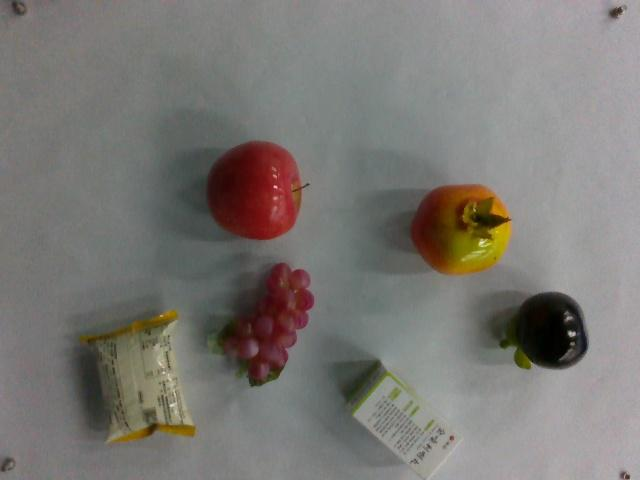apple: (206, 140, 310, 241)
carton: (348, 363, 464, 477)
dessert: (84, 311, 197, 443)
grape: (216, 261, 314, 384)
mangosteen: (501, 288, 590, 372)
pomegranate: (409, 181, 515, 275)
